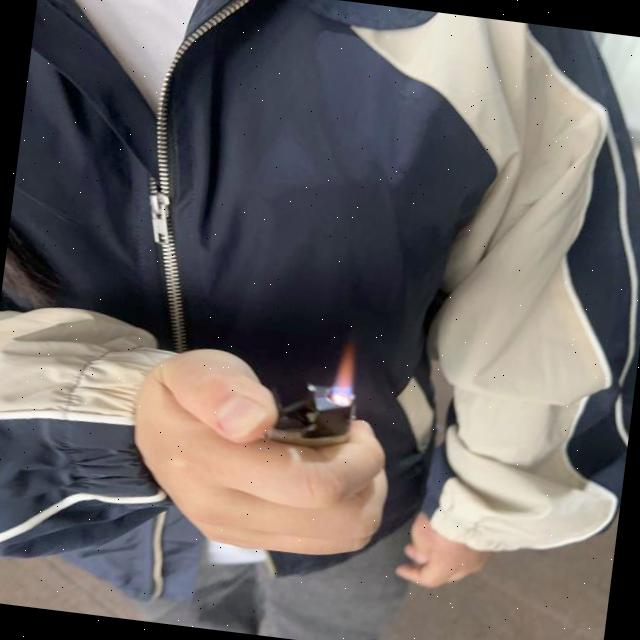fire: (331, 351, 359, 394)
